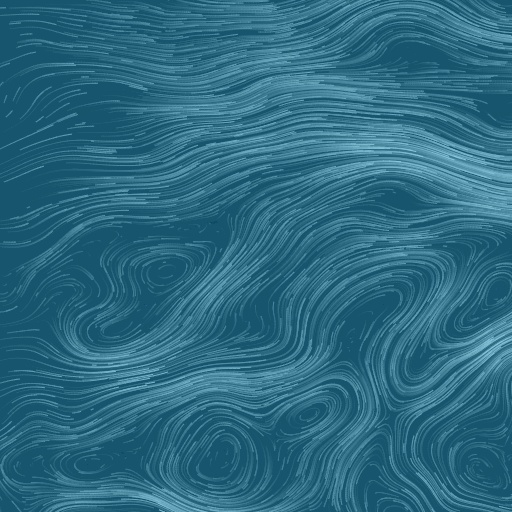eddy: (80, 243, 208, 354), (182, 417, 256, 496), (448, 438, 510, 496), (277, 390, 340, 437), (477, 270, 511, 312), (73, 448, 107, 479)
